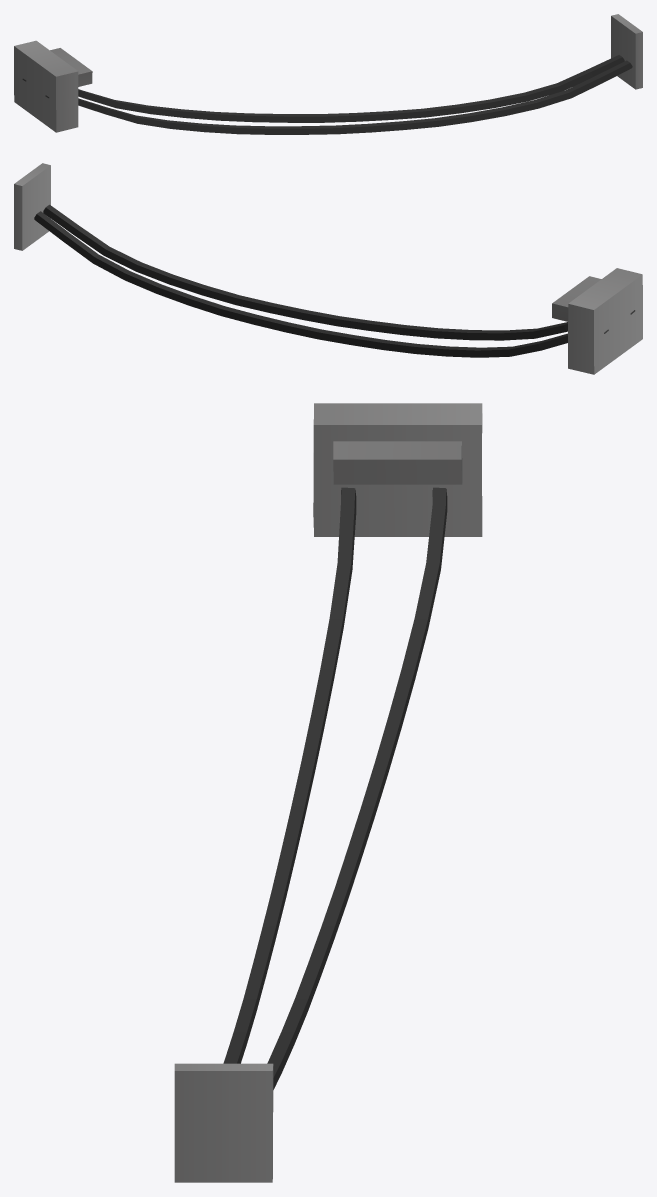
Rendered from B02_cable_2.fbx.
The picture shows the model from 3 angles, top to bottom: view 1: azimuth 30°, elevation 25°; view 2: azimuth 150°, elevation 25°; view 3: azimuth 270°, elevation 25°; orthographic projection. The views are drawn at different scales.
Visible parts, largest first — view 1: B02_cable_2; view 2: B02_cable_2; view 3: B02_cable_2.
Part boxes in pixels (box(x1,y1,x2,y2)): B02_cable_2: box(14, 14, 642, 134); B02_cable_2: box(14, 163, 642, 374); B02_cable_2: box(174, 403, 482, 1182).
Bounding box in the file's own units: 711 × 156 × 171.
